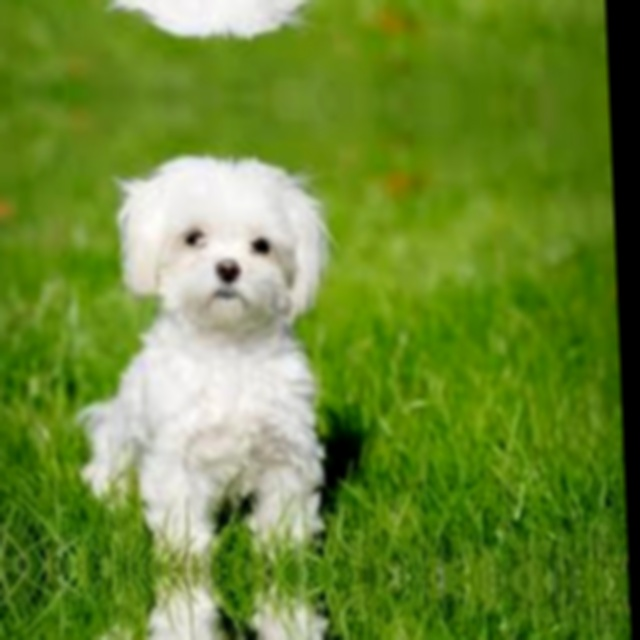dog: (82, 138, 349, 572), (99, 570, 354, 640), (75, 0, 327, 54)
